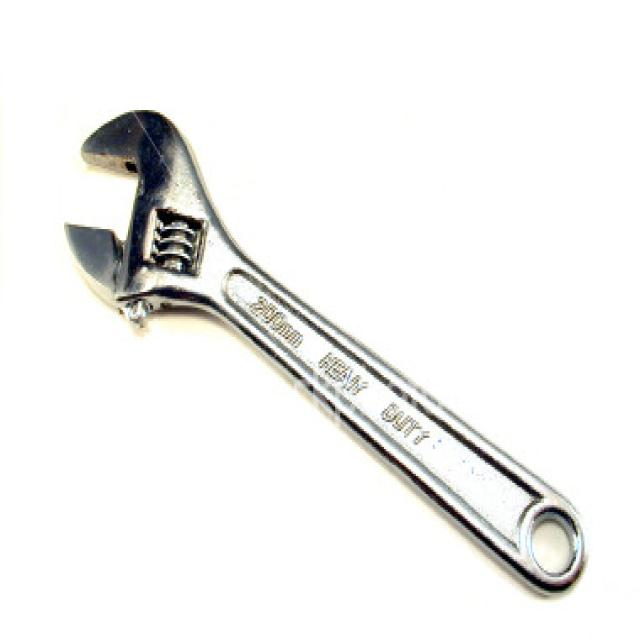wrench: (32, 68, 640, 589)
